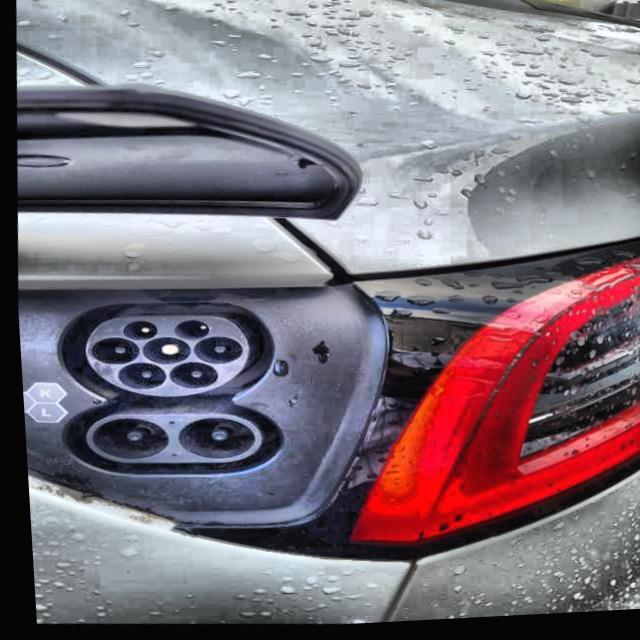inlet: (82, 318, 244, 398)
inlet-above-left: (119, 322, 153, 341)
inlet-above-right: (170, 322, 205, 342)
inlet-below-left: (114, 364, 162, 391)
inlet-below-right: (164, 364, 213, 392)
inlet-center: (138, 339, 186, 366)
inlet-center-left: (87, 339, 135, 366)
inlet-center-right: (189, 339, 238, 366)
